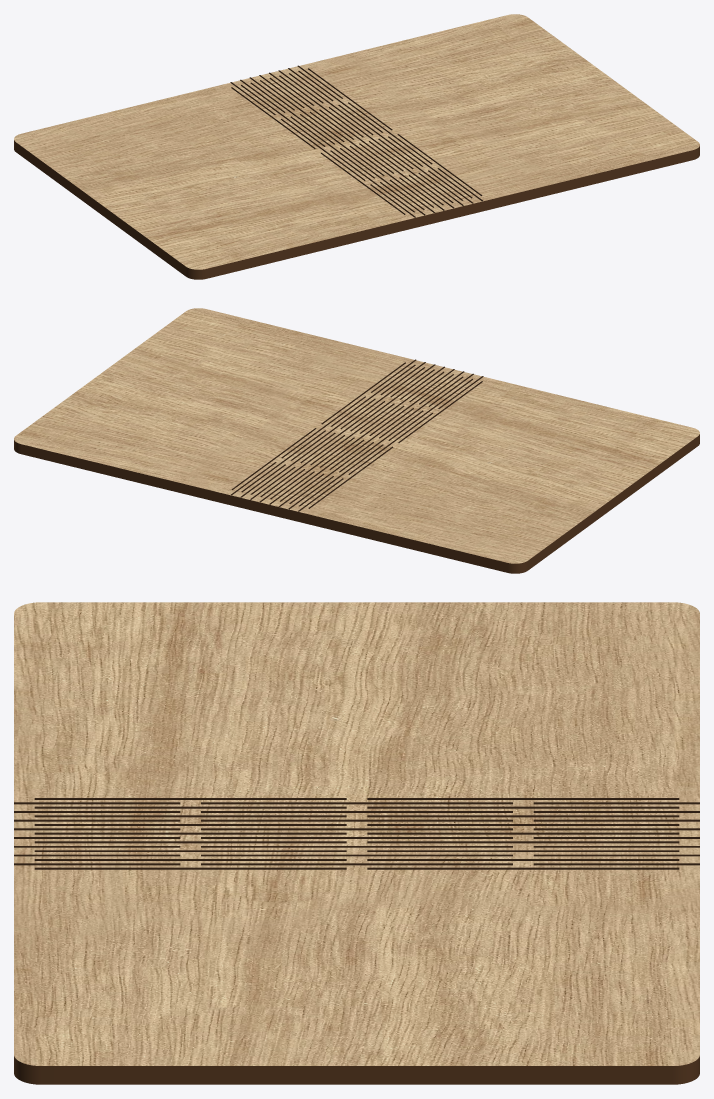
Rendered from hinge-card.glb.
3 renders of one model, top to bottom at view 1: azimuth 30°, elevation 25°; view 2: azimuth 150°, elevation 25°; view 3: azimuth 270°, elevation 25°, orthographic. The views are drawn at different scales.
Parts seen in each view (by area): view 1: body0, cutline0; view 2: body0, cutline0; view 3: body0, cutline0.
Part boxes in pixels (x1,y1,x2,y2): body0: (14,14,699,279); cutline0: (230,65,482,217); body0: (14,308,699,573); cutline0: (231,359,483,511); body0: (14,602,699,1084); cutline0: (14,798,699,869).
Bounding box in the file's own units: 0.16 × 0.00317 × 0.1.
3 materials, 1 textured.
